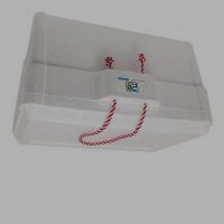foam_box: (8, 8, 219, 160)
